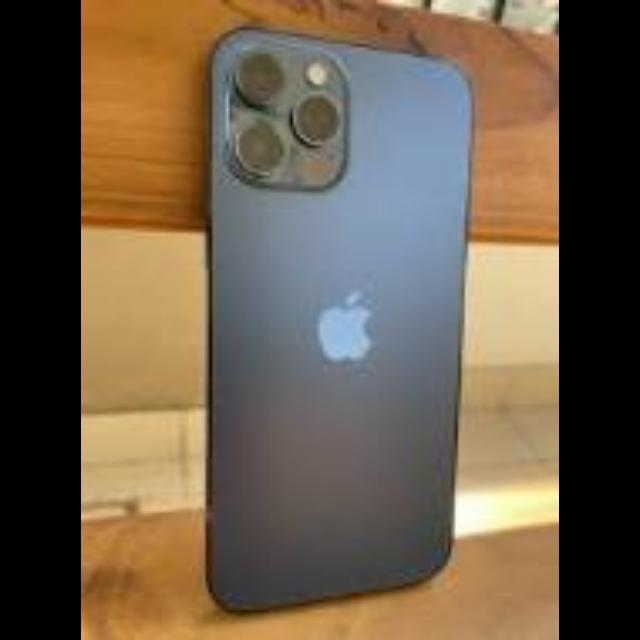Phone: (206, 26, 474, 614)
